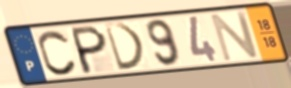4: (188, 14, 219, 65)
9: (145, 17, 183, 68)
C: (36, 28, 79, 77)
D: (102, 21, 147, 73)
N: (208, 9, 262, 64)
P: (70, 23, 109, 75)
